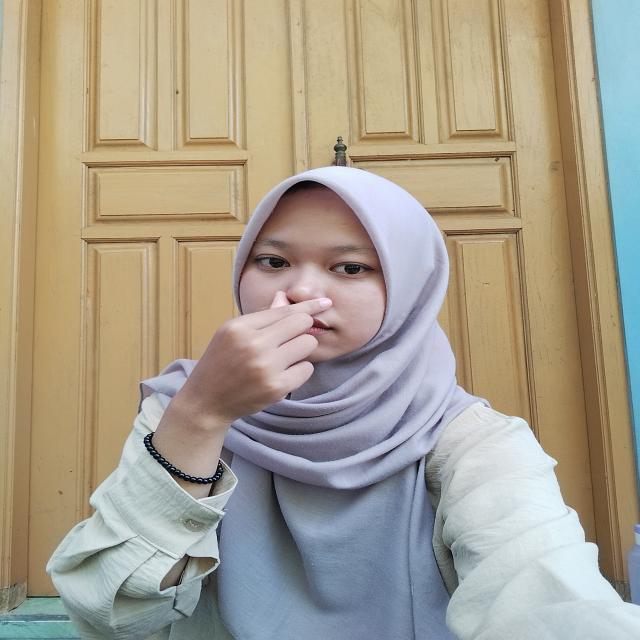bau: (188, 278, 356, 428)
